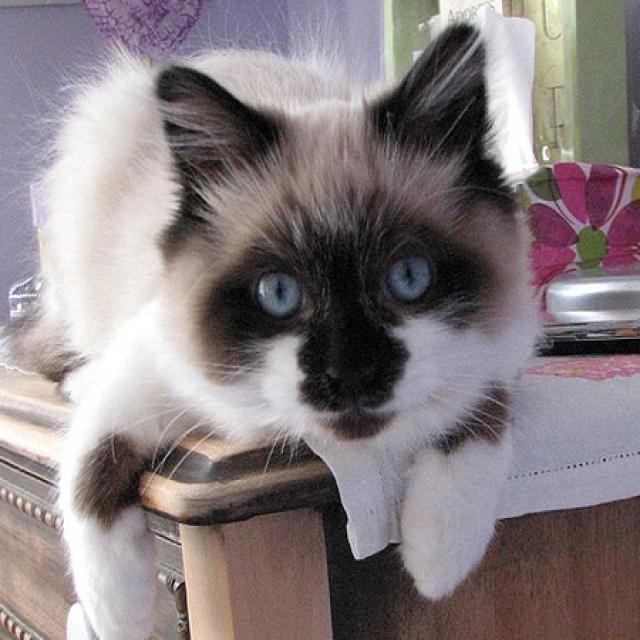Ragdoll: (12, 12, 540, 640)
